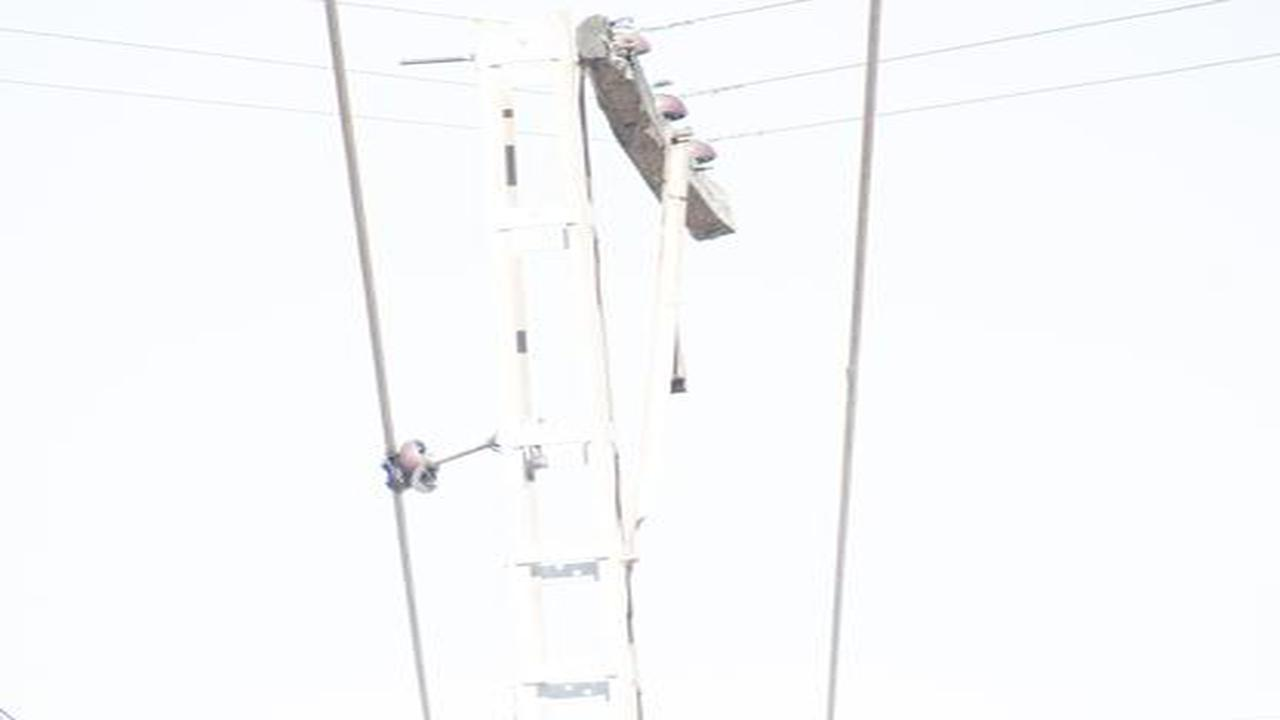insulator_pin: (376, 433, 438, 504), (608, 8, 655, 61), (655, 76, 687, 127)
